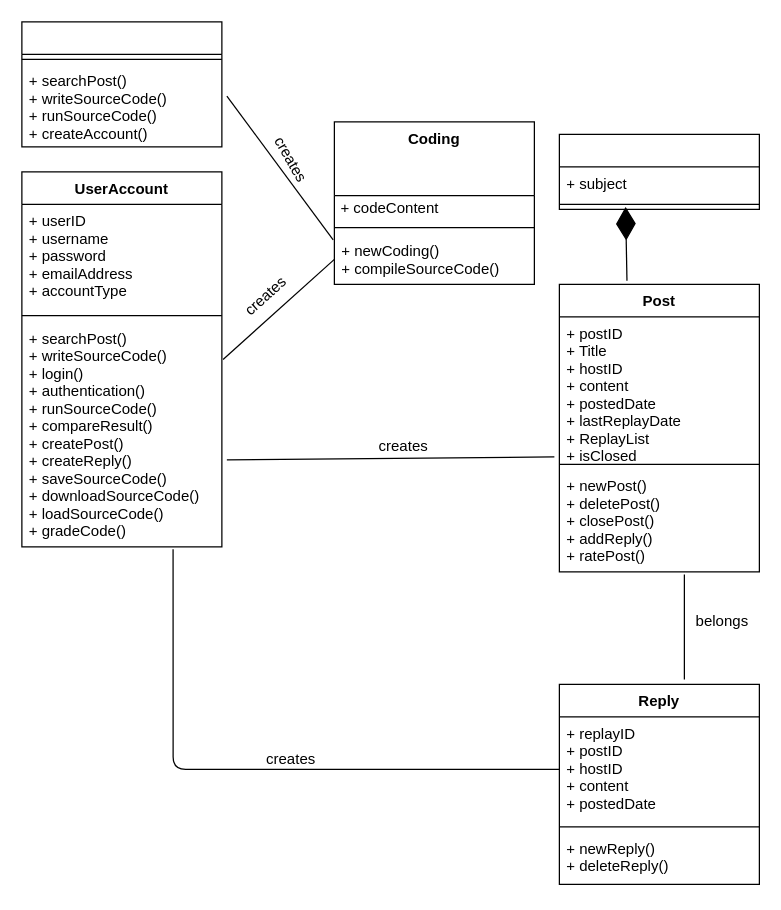
This 781x910 diagram has some shape labels left out. The shapes that lost their labels are listed below. From the top down, each one's box as (x1, y1, x2, y2) in pixels, then its label:
(21, 21, 222, 147): Guest
(558, 133, 759, 209): Forum
